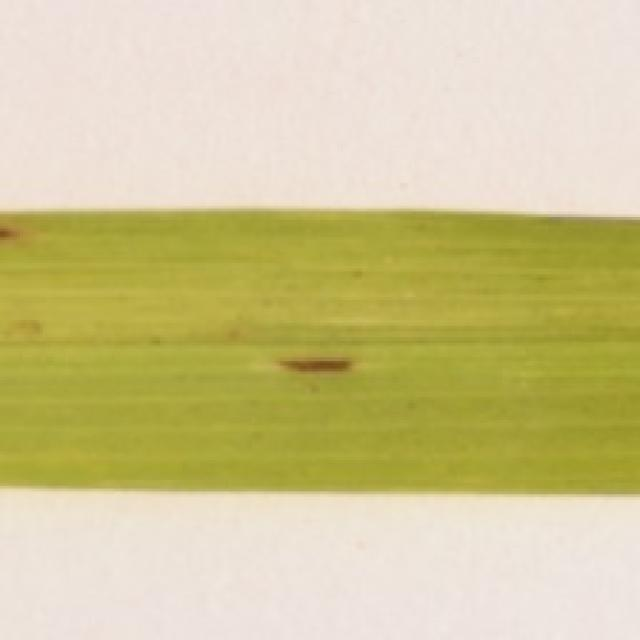Rice___Brown_Spot: (1, 212, 637, 498)
